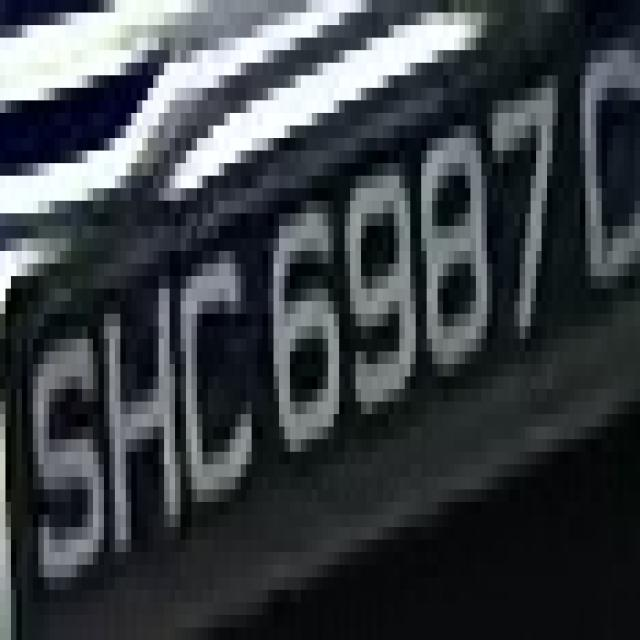6: (257, 188, 350, 490)
7: (487, 50, 563, 364)
8: (416, 100, 498, 402)
9: (328, 138, 421, 427)
C: (164, 226, 263, 552), (563, 13, 640, 326)
H: (109, 213, 186, 578)
S: (16, 301, 110, 615)
